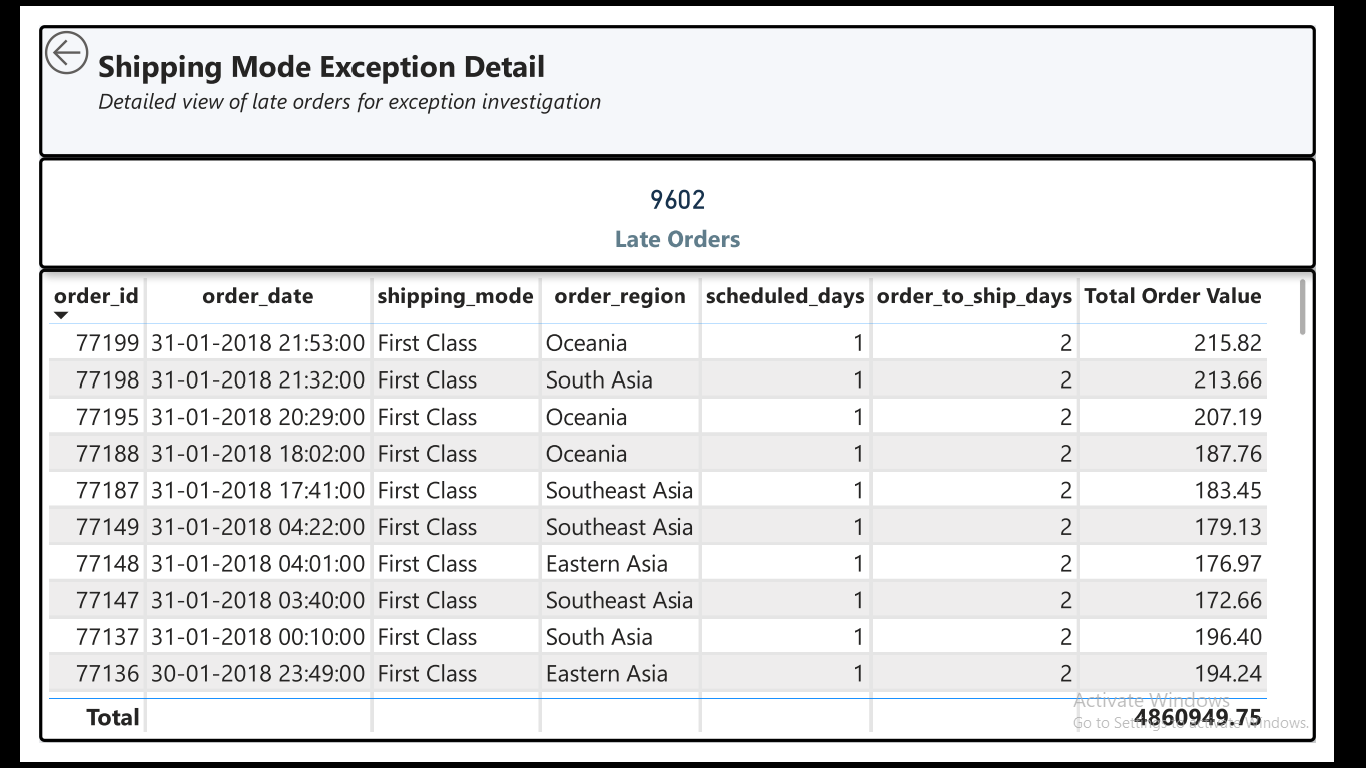

Layout of this report page (visuals, bound fields, positions):
{"tool":"powerbi","page":{"name":"Shipping Mode Exception Detail","canvas":[1600,900],"ordinal":3},"visuals":[{"type":"shape","box":[0,0,1600,166.3],"z":0},{"type":"actionButton","box":[0,0,100.1,68.6],"z":1000},{"type":"tableEx","fields":{"Values":["fact_orders.order_id","fact_orders.order_date","fact_orders.shipping_mode","fact_orders.order_region","fact_orders.scheduled_days","fact_orders.order_to_ship_days","fact_orders.Total Order Value"]},"box":[0,305.7,1600,593.5],"z":2000},{"type":"card","fields":{"Values":["fact_orders.Late Orders"]},"box":[0,166.3,1600,139.4],"z":3000},{"type":"textbox","box":[68.6,20,665,113],"z":4000}]}

Visuals, with their boxes in screenshot pixels (x1, y1, x2, y2), scaled from the page's 1600x900 canvas onto the 1366x768 screenshot:
shape: x1=0, y1=0, x2=1365, y2=142
actionButton: x1=0, y1=0, x2=85, y2=59
tableEx - fact_orders.order_id x fact_orders.order_date: x1=0, y1=261, x2=1365, y2=767
card - fact_orders.Late Orders: x1=0, y1=142, x2=1365, y2=261
textbox: x1=59, y1=17, x2=626, y2=113
